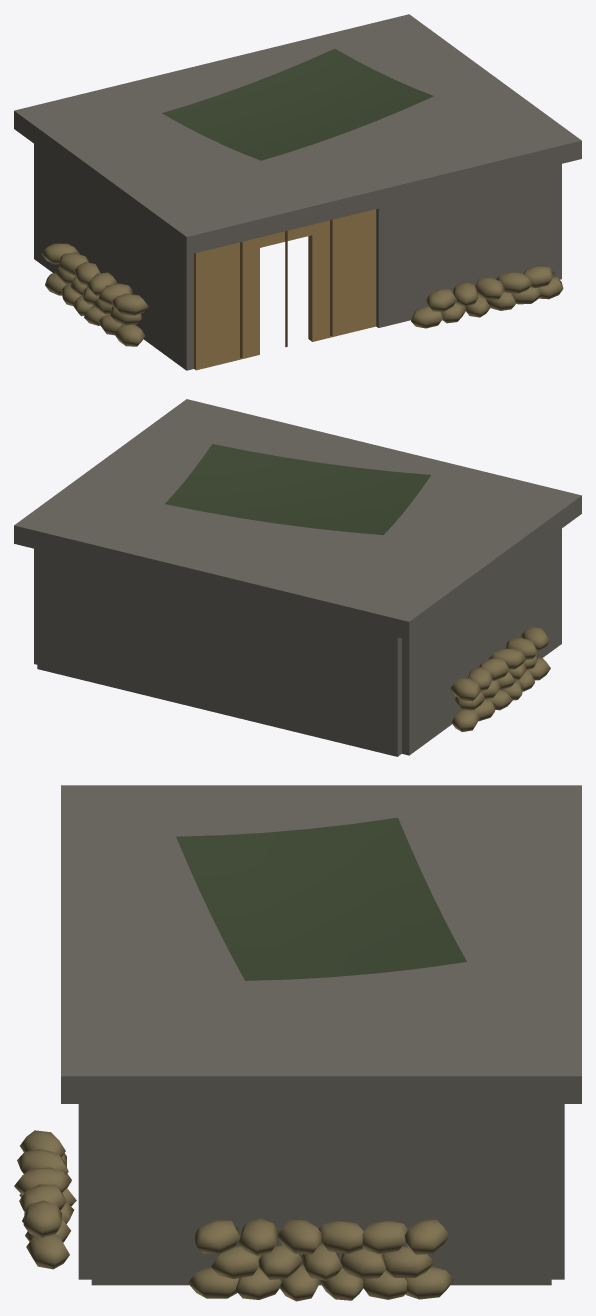
Rendered from bldg_armory_bunker.glb.
The picture shows the model from 3 angles, top to bottom: view 1: azimuth 30°, elevation 25°; view 2: azimuth 150°, elevation 25°; view 3: azimuth 270°, elevation 25°; orthographic projection. The views are drawn at different scales.
Parts seen in each view (by area): view 1: Bldg_ArmoryBunker, WallPanel_Finished, CamoNetSheet, SandbagBasePanel (×2); view 2: Bldg_ArmoryBunker, CamoNetSheet, SandbagBasePanel; view 3: Bldg_ArmoryBunker, CamoNetSheet, SandbagBasePanel (×2).
Boxes of the visible parts, x1,y1,x2,y2 form: Bldg_ArmoryBunker: (14,14,581,370); WallPanel_Finished: (194,209,376,370); CamoNetSheet: (162,48,433,160); SandbagBasePanel (×2): (41,243,563,346); Bldg_ArmoryBunker: (14,399,581,756); CamoNetSheet: (165,444,430,534); SandbagBasePanel: (450,626,550,731); Bldg_ArmoryBunker: (61,785,581,1285); CamoNetSheet: (176,817,466,980); SandbagBasePanel (×2): (14,1130,454,1301).
Bounding box in the file's own units: 8.83 × 3.15 × 6.52.
